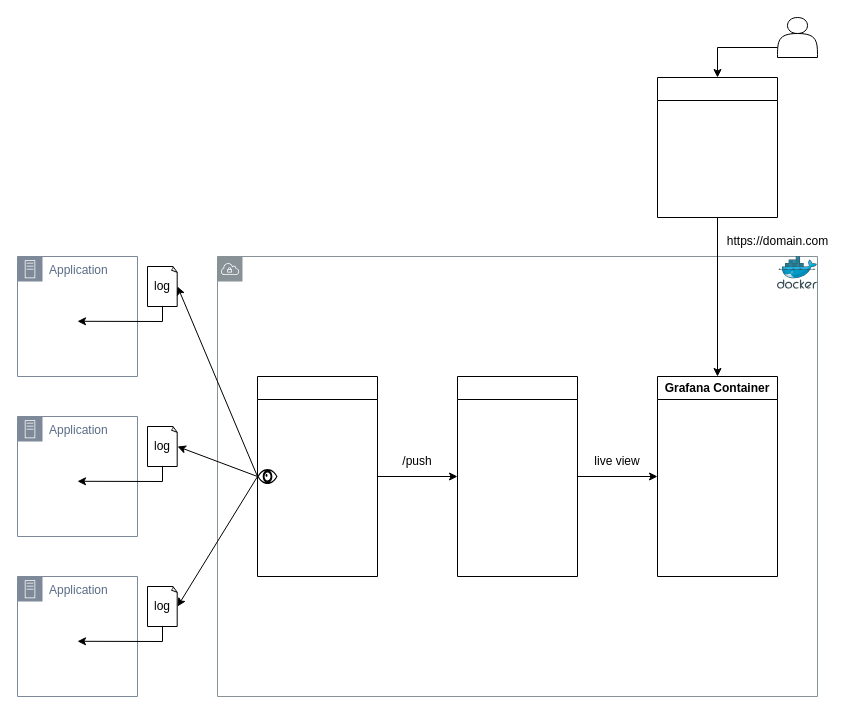
Some shapes in this 855 by 714 pixel diagram are drawn without their labels. Here are the shapes that lost their labels. From the top down, the box of each, then its label:
(656, 76, 778, 218): Nginx
(256, 376, 378, 576): Pormtail Container
(456, 376, 578, 576): Loki Container
(216, 256, 818, 696): network: app
